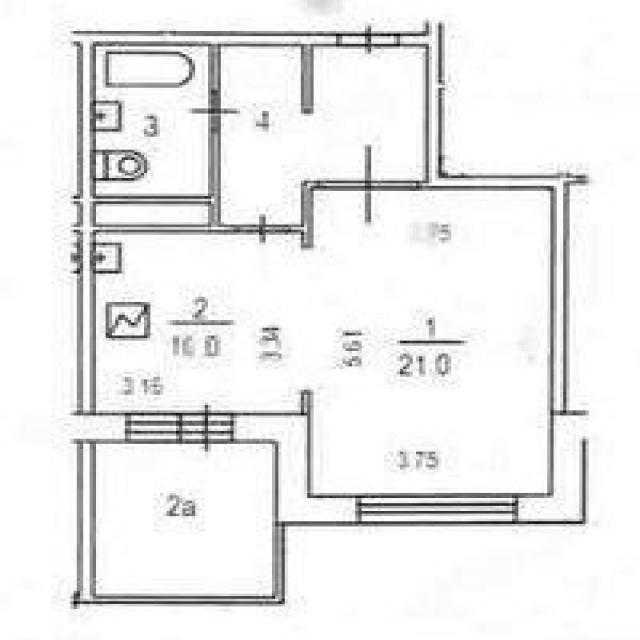Bathrooms: (99, 48, 206, 193)
Corridors: (222, 49, 424, 223)
Doors: (322, 142, 422, 228), (183, 402, 234, 456), (184, 90, 241, 135), (233, 212, 299, 245), (338, 22, 399, 57)
LBwalls: (234, 411, 355, 526), (519, 410, 589, 526), (68, 412, 125, 444)
Offices: (97, 192, 549, 493), (99, 445, 273, 594)
Walls: (75, 30, 337, 410), (400, 20, 589, 411), (76, 444, 287, 606), (300, 180, 322, 251), (300, 389, 314, 410)
Windows: (355, 492, 519, 524), (125, 412, 182, 444)
